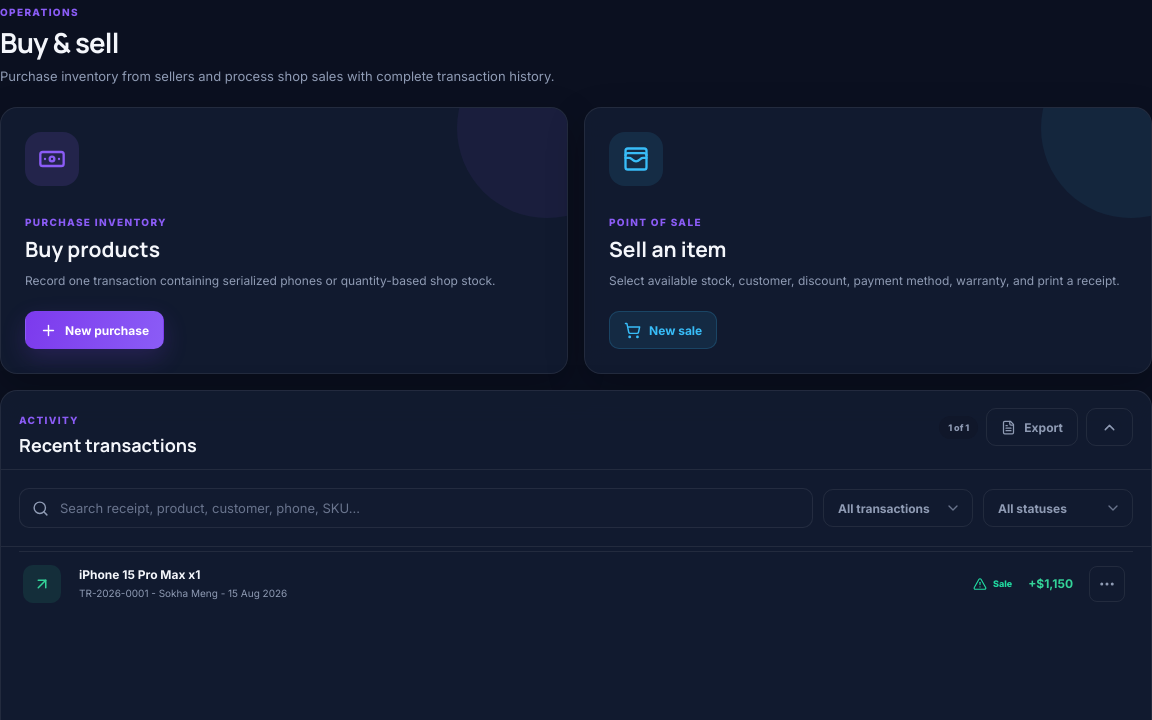
Test: TradePage feature integration › opens trade detail modal portaled under document.body with shared DetailModal architecture
Expected: the text "TR-2026-0001 - Sokha Meng - 15 Aug 2026" is shown, [79, 587, 287, 599]
Click the button with aria-label "View TR-2026-0001" at (42,584), box [19, 552, 1133, 616]
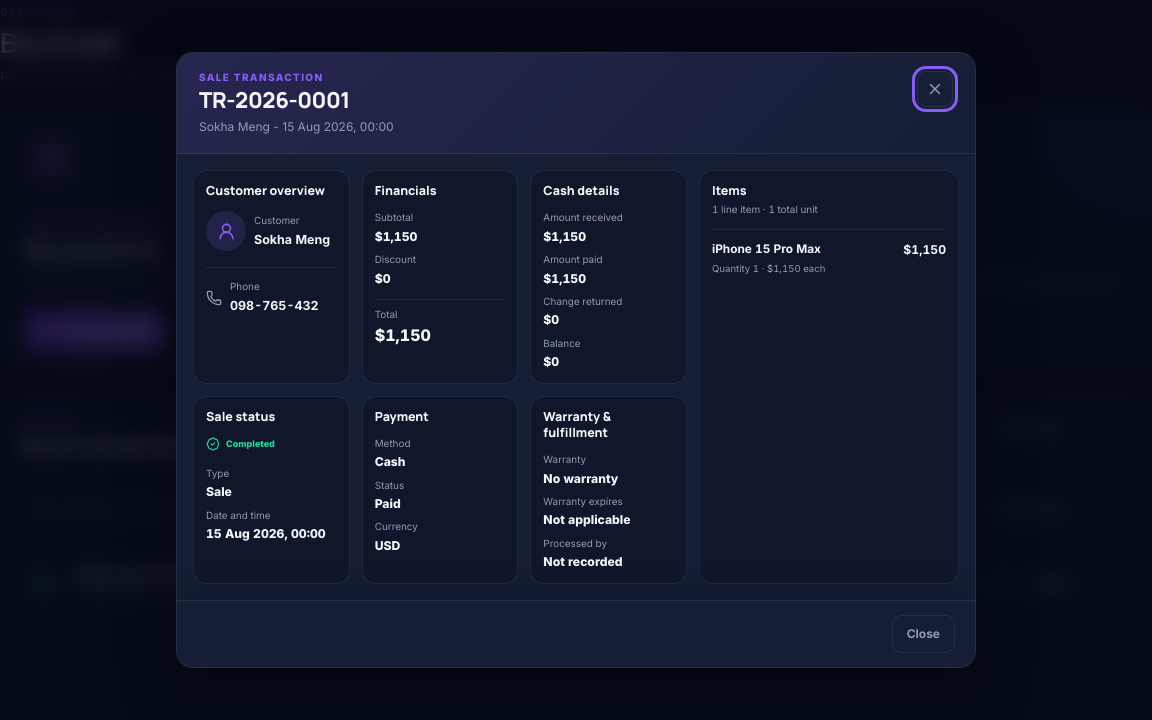
Expected: the dialog is shown, [176, 52, 976, 668]
Expected: the header with class "detail-modal-header" is shown, [177, 54, 975, 154]
Expected: the heading with id "trade-detail-title" reads "TR-2026-0001", [199, 86, 350, 116]
